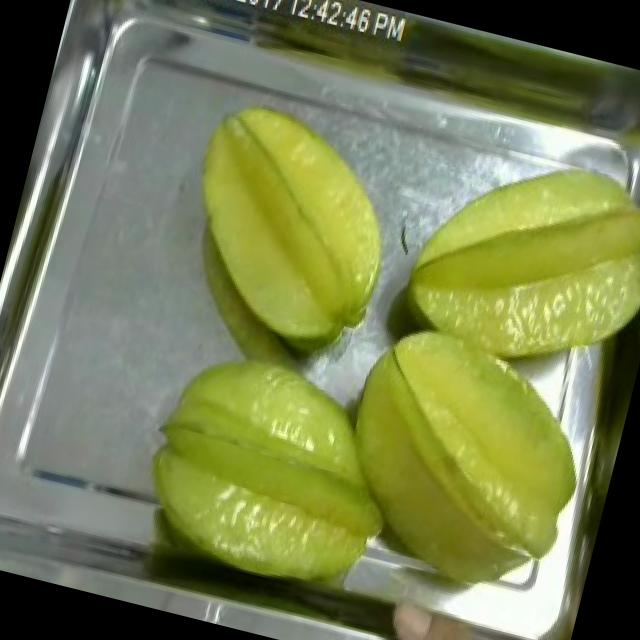fruit: (287, 286, 625, 634), (115, 322, 435, 620), (149, 80, 426, 373), (375, 117, 640, 409), (359, 572, 575, 640)
